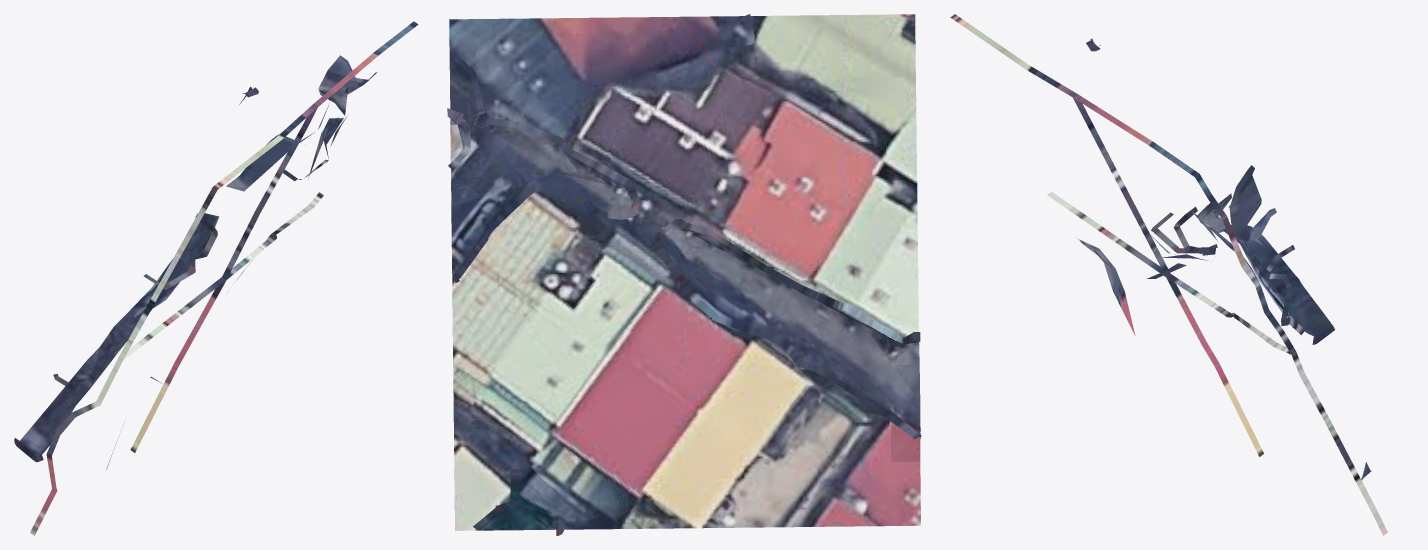
3 views of the same model, side by side, from view 1: azimuth 30°, elevation 25°; view 2: azimuth 150°, elevation 25°; view 3: azimuth 270°, elevation 25° (orthographic). The views are drawn at different scales.
Bounding box in the file's own units: 38.93 × 36.58 × 35.2.
1 material, 1 textured.
